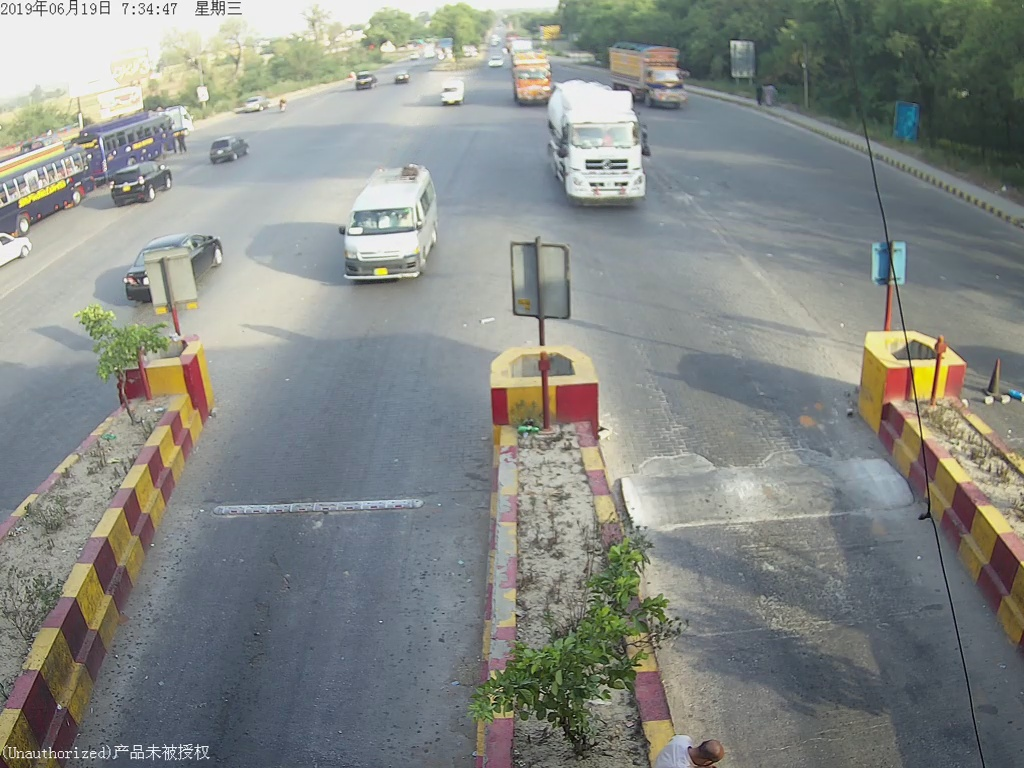Cat-2: (341, 164, 448, 293)
Cat-4: (546, 88, 658, 215)
